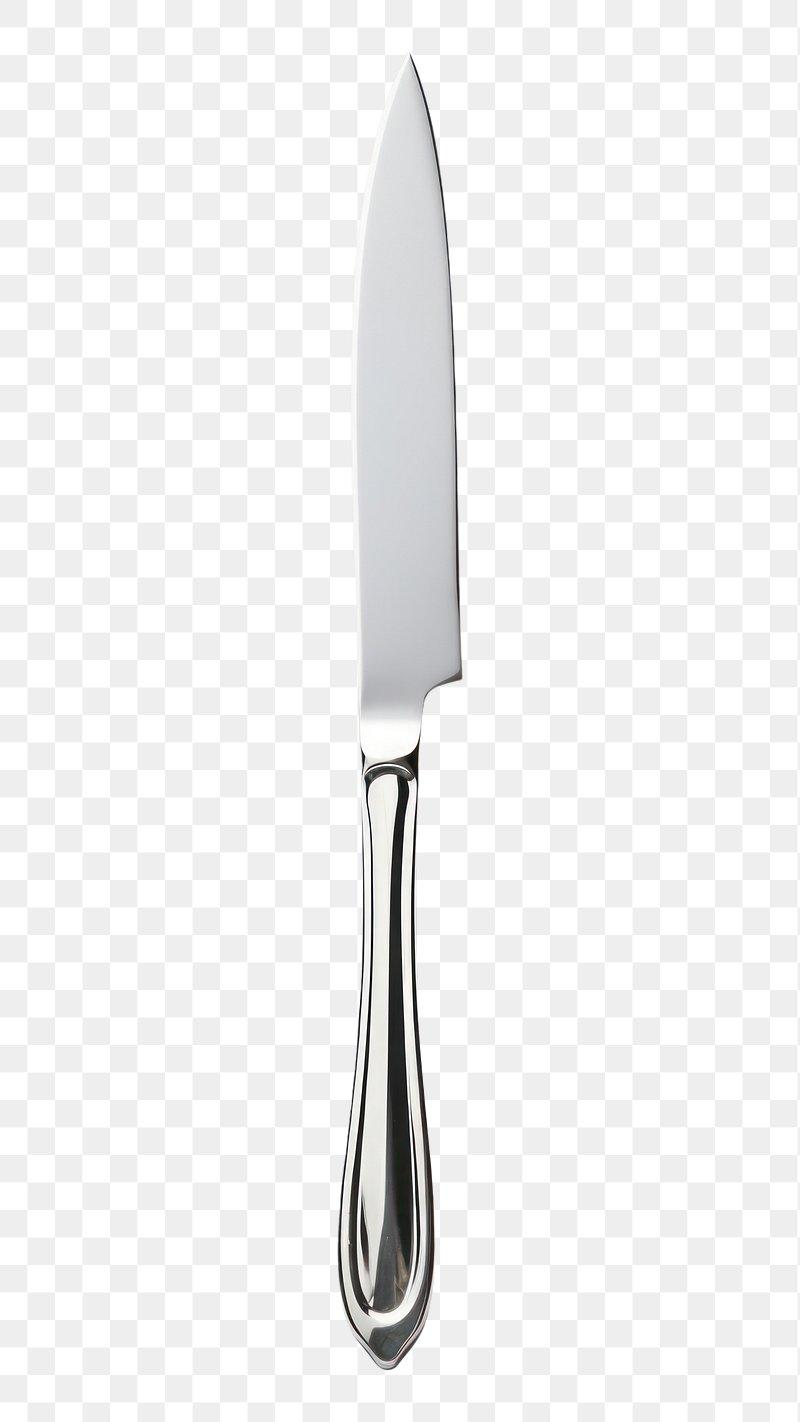Knife: (337, 52, 462, 1368)
